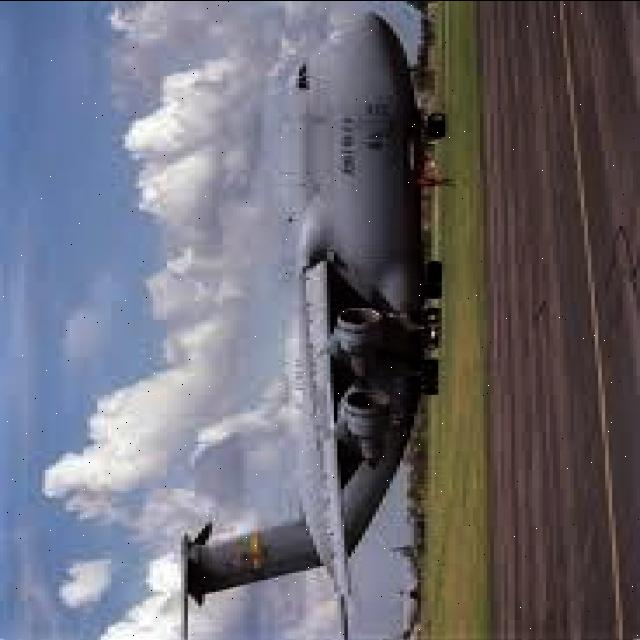C5: (154, 0, 472, 640)
